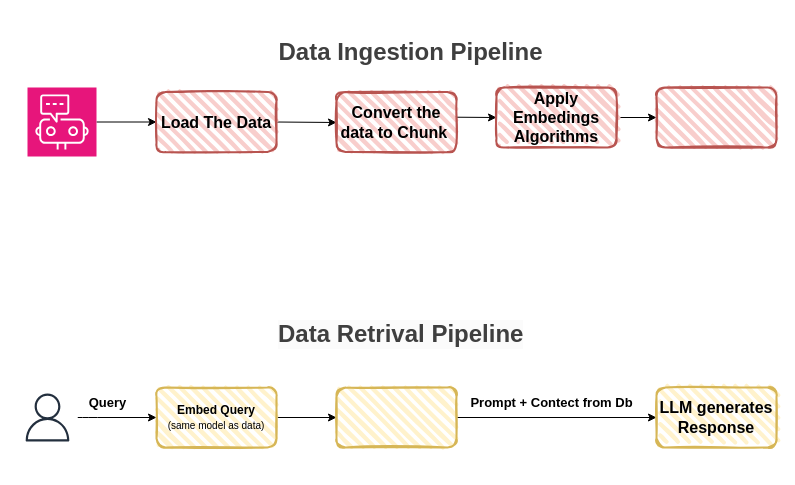
Some shapes in this 795 by 485 pixel diagram are drawn without their labels. Here are the shapes that lost their labels. From the top down, the centre of each, then its label:
At point 716,117: "Store the Embedings to VectorDB".
At point 47,417: "User".
At point 396,417: "Search in DB".
